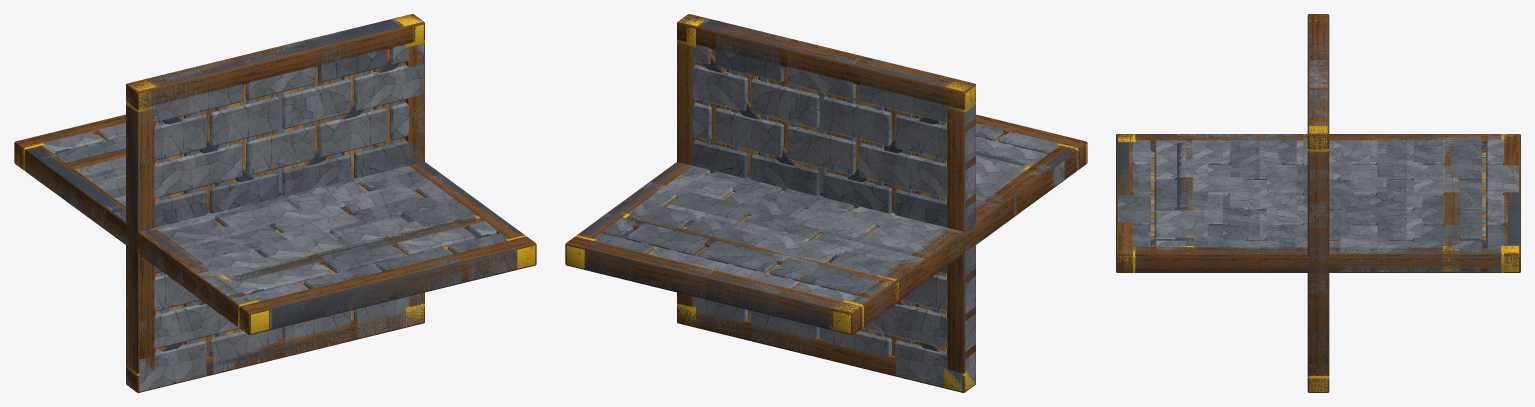
The model's file is constructions_v2.glb.
3 renders of one model, left to right at view 1: azimuth 30°, elevation 25°; view 2: azimuth 150°, elevation 25°; view 3: azimuth 270°, elevation 25°, orthographic. The views are drawn at different scales.
Parts seen in each view (by area): view 1: mur_pierre, rampe_pierre, mur_bois, rampe_bois, sol_pierre, mur_metal, rampe_metal, sol_bois, sol_metal; view 2: mur_pierre, rampe_pierre, mur_bois, rampe_bois, sol_pierre, rampe_metal, mur_metal, sol_bois, sol_metal; view 3: rampe_pierre, sol_pierre, rampe_bois, mur_bois, rampe_metal, sol_bois, mur_metal, mur_pierre, sol_metal.
Boxes of the visible parts, x1,y1,x2,y2 form: mur_pierre: (126,15,423,391); rampe_pierre: (15,123,517,329); mur_bois: (126,14,424,392); rampe_bois: (14,114,536,334); sol_pierre: (55,156,478,301); mur_metal: (126,14,424,391); rampe_metal: (15,121,535,333); sol_bois: (49,148,497,308); sol_metal: (50,149,480,302); mur_pierre: (678,15,975,391); rampe_pierre: (579,117,1087,330); mur_bois: (677,14,975,392); rampe_bois: (565,114,1087,334); sol_pierre: (627,148,1050,298); rampe_metal: (566,116,1087,333); mur_metal: (677,16,975,391); sol_bois: (602,156,1052,308); sol_metal: (622,148,1044,302); rampe_pierre: (1118,134,1518,271); sol_pierre: (1177,134,1459,271); rampe_bois: (1116,134,1520,272); mur_bois: (1307,14,1329,392); rampe_metal: (1116,134,1520,272); sol_bois: (1175,134,1461,272); mur_metal: (1307,17,1329,391); mur_pierre: (1309,27,1327,391); sol_metal: (1175,134,1461,272).
Size of the model in its own units: 4 by 4 by 5.66.
Materials: 9 (9 with a texture image).
